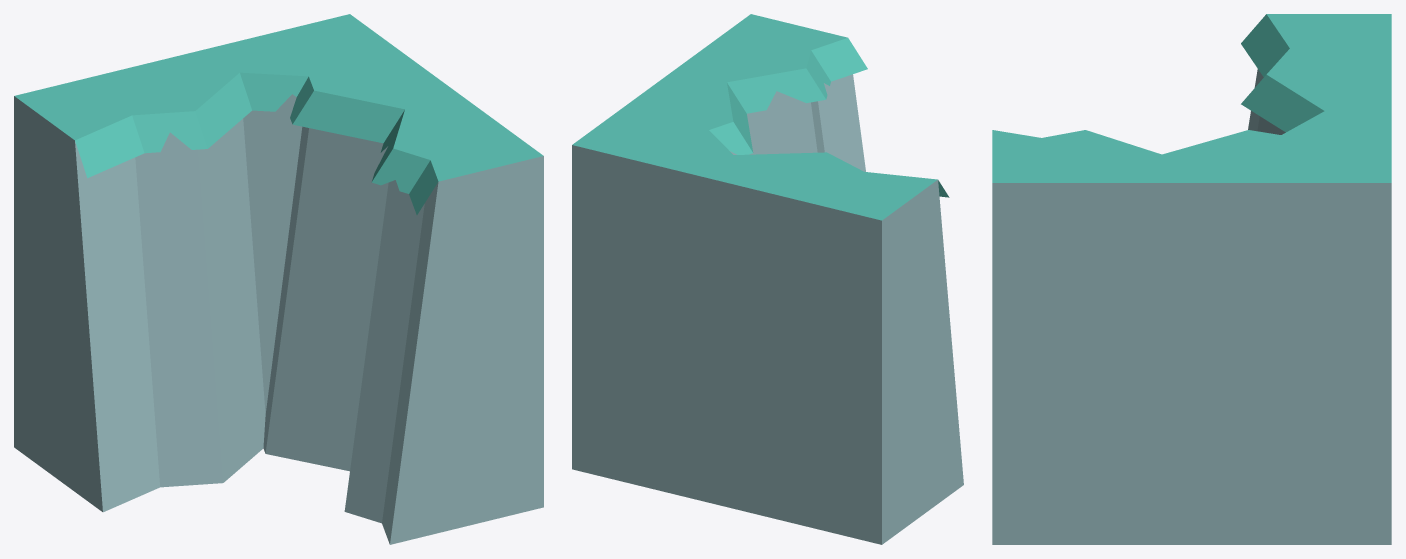
Rendered from cliffGrey_cornerInnerTop.fbx.
3 renders of one model, left to right at view 1: azimuth 30°, elevation 25°; view 2: azimuth 150°, elevation 25°; view 3: azimuth 270°, elevation 25°, orthographic. The views are drawn at different scales.
Visible parts, largest first — view 1: cliffGrey_cornerInnerTop; view 2: cliffGrey_cornerInnerTop; view 3: cliffGrey_cornerInnerTop.
Boxes of the visible parts, left/top/right/bottom form: cliffGrey_cornerInnerTop: left=14, top=14, right=543, bottom=544; cliffGrey_cornerInnerTop: left=572, top=14, right=963, bottom=544; cliffGrey_cornerInnerTop: left=992, top=14, right=1391, bottom=544.
Bounding box in the file's own units: 10 × 10 × 10.
